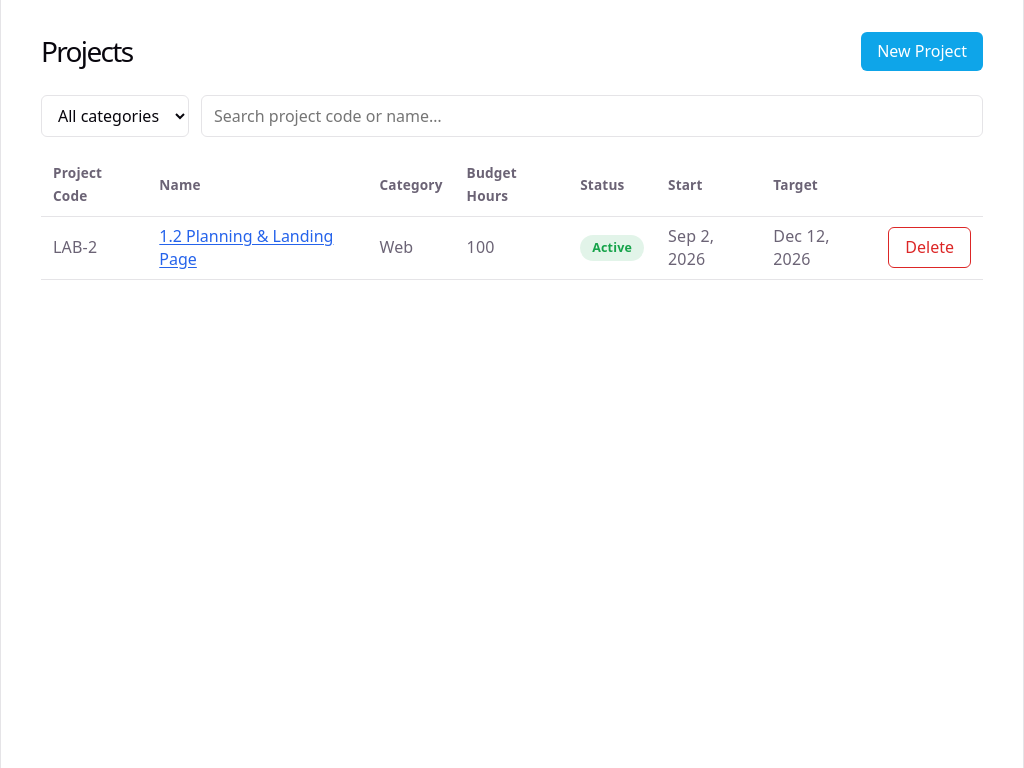
Test: Projects page › shows task-load errors in expanded panel
Step 1. Click the button "1.2 Planning & Landing Page" → (257, 248), box [159,225,355,271]
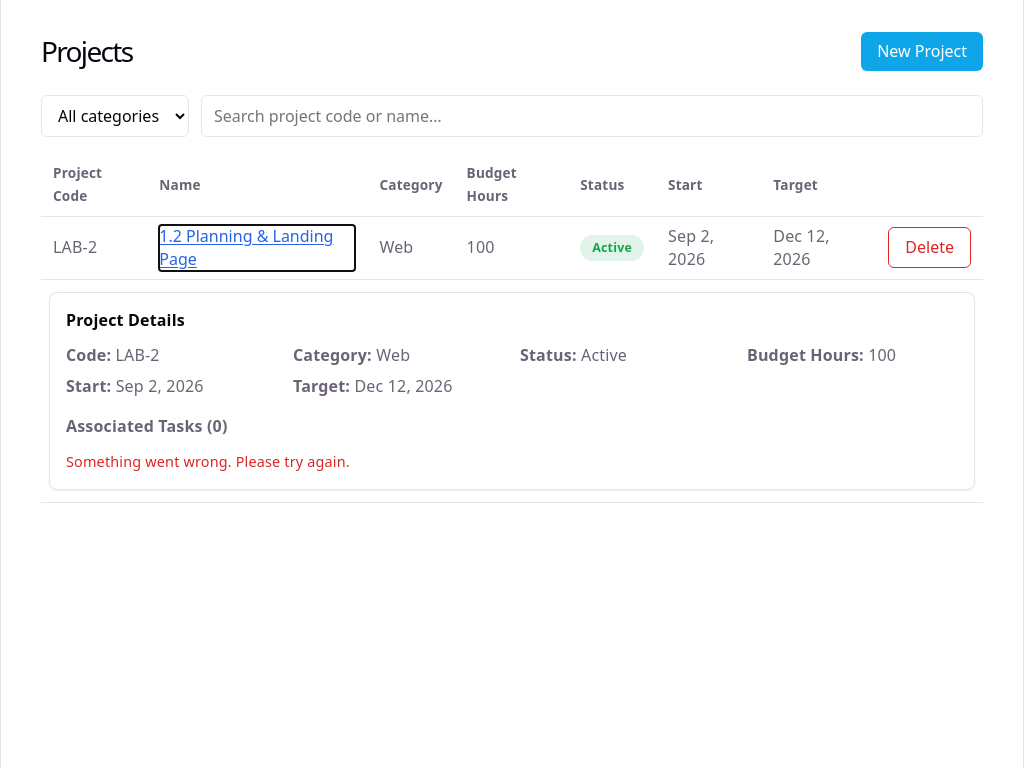
Result: the text "Something went wrong. Please try again." is shown at [66,452,350,471]
